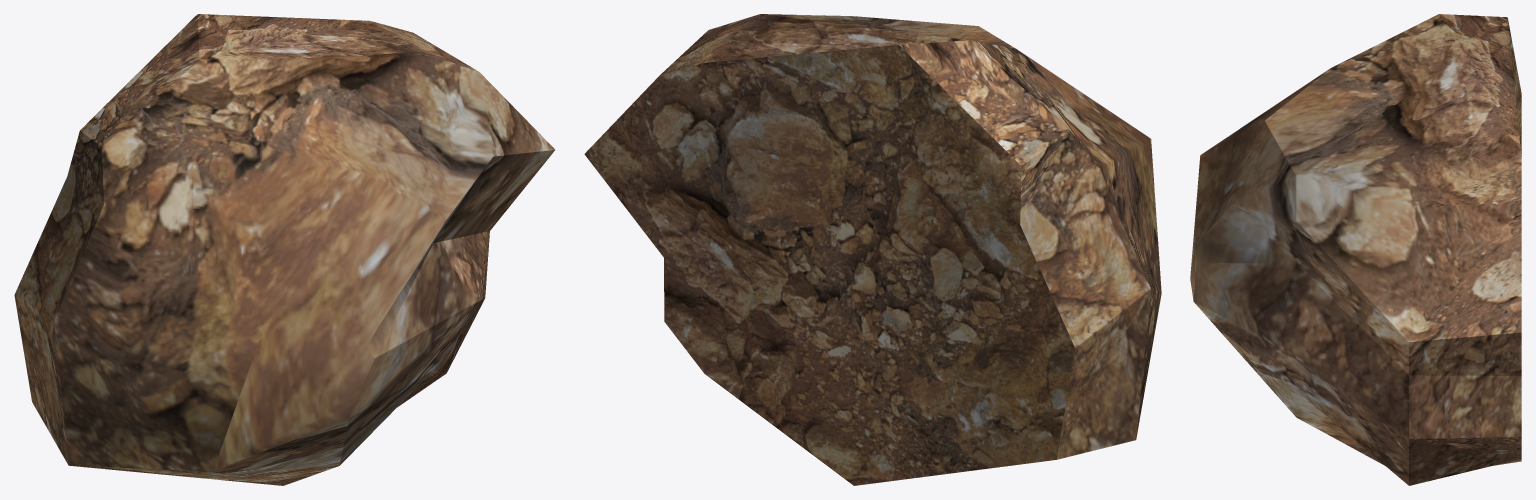
File: mars_rock_1.obj
3 views of the same model, side by side, from view 1: azimuth 30°, elevation 25°; view 2: azimuth 150°, elevation 25°; view 3: azimuth 270°, elevation 25° (orthographic). The views are drawn at different scales.
Visible parts, largest first — view 1: mars_rock_1; view 2: mars_rock_1; view 3: mars_rock_1.
Part boxes in pixels (left/top/right/bottom): mars_rock_1: left=14, top=14, right=555, bottom=485; mars_rock_1: left=584, top=14, right=1161, bottom=485; mars_rock_1: left=1190, top=14, right=1521, bottom=485.
Bounding box in the file's own units: 18.87 × 16 × 10.83.
